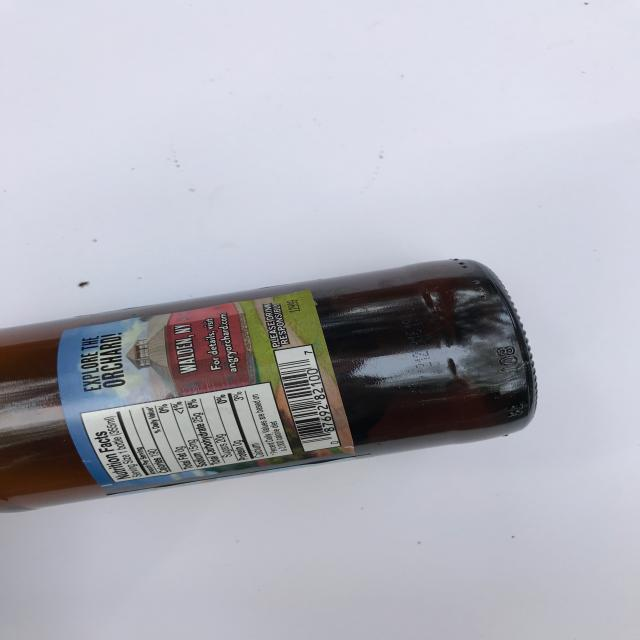Glass: (0, 248, 546, 516)
